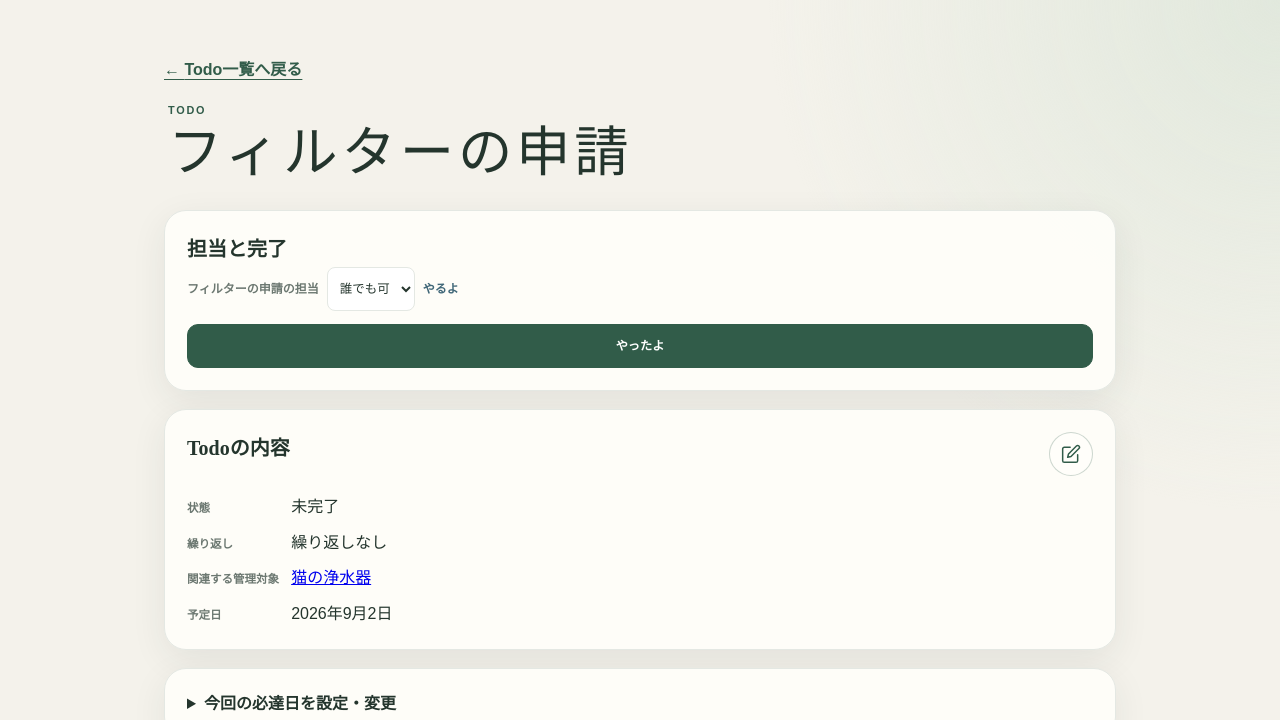
Scenario: 未完了Todoの詳細からの完了操作(Issue #392) › 完了の記録が失敗すると、詳細画面にそのまま理由を表示する
Step 1. Click the button "やったよ" → (640, 346), box [187, 324, 1093, 368]
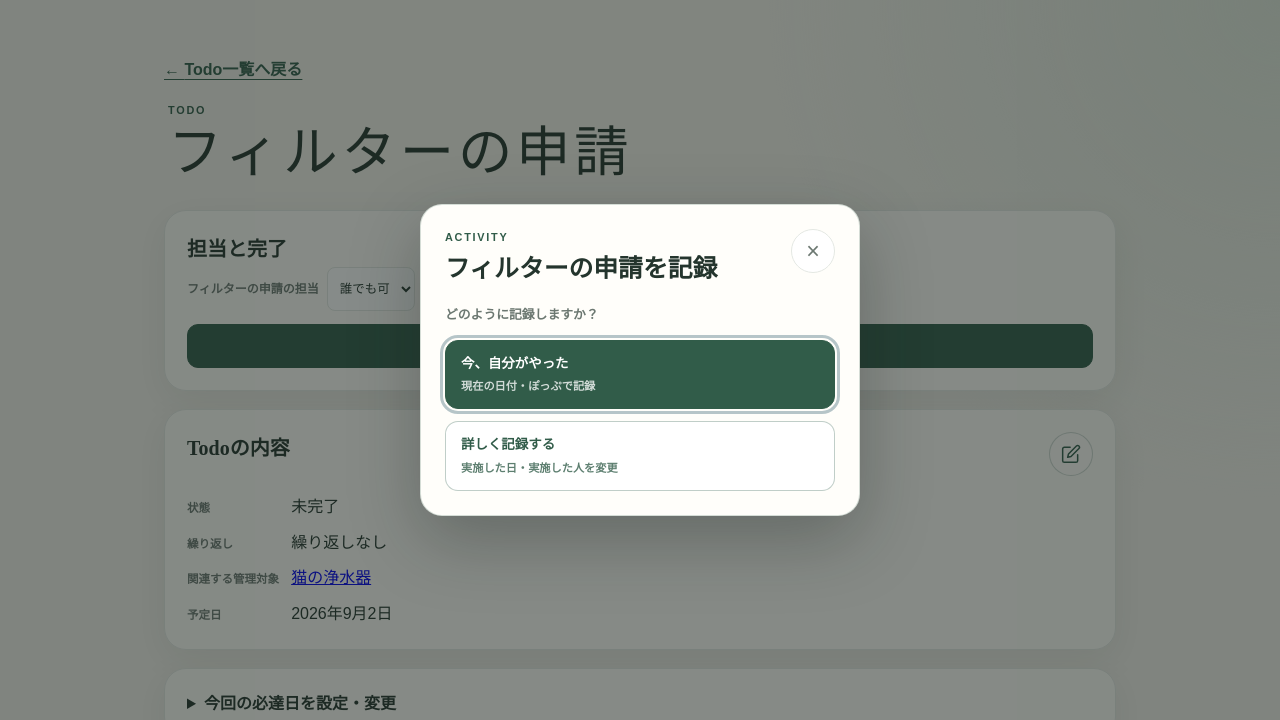
Step 2. Click the button "今、自分がやった" → (515, 363), box [445, 340, 835, 409]
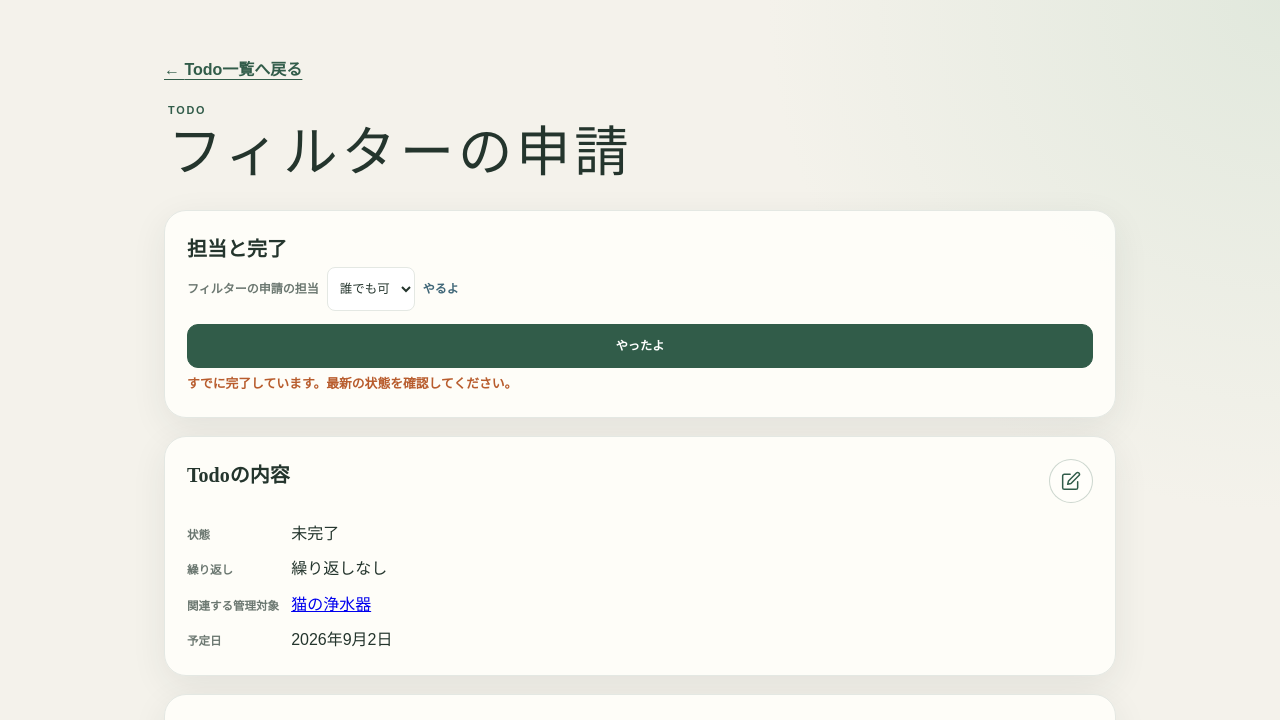
Now the message reads "すでに完了しています。最新の状態を確認してください。", box [187, 376, 517, 391]
